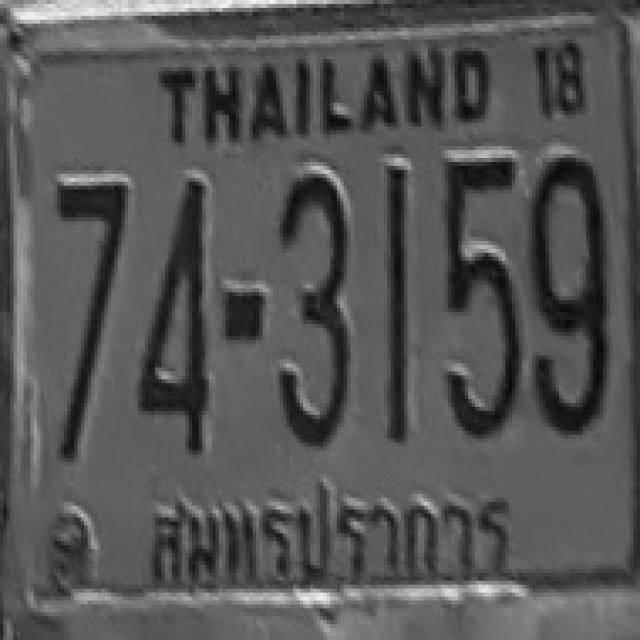1: (384, 164, 417, 440)
3: (274, 172, 348, 444)
4: (135, 176, 212, 461)
5: (441, 151, 519, 440)
7: (54, 180, 123, 459)
9: (529, 158, 606, 435)
SamutPrakan: (135, 471, 521, 598)
